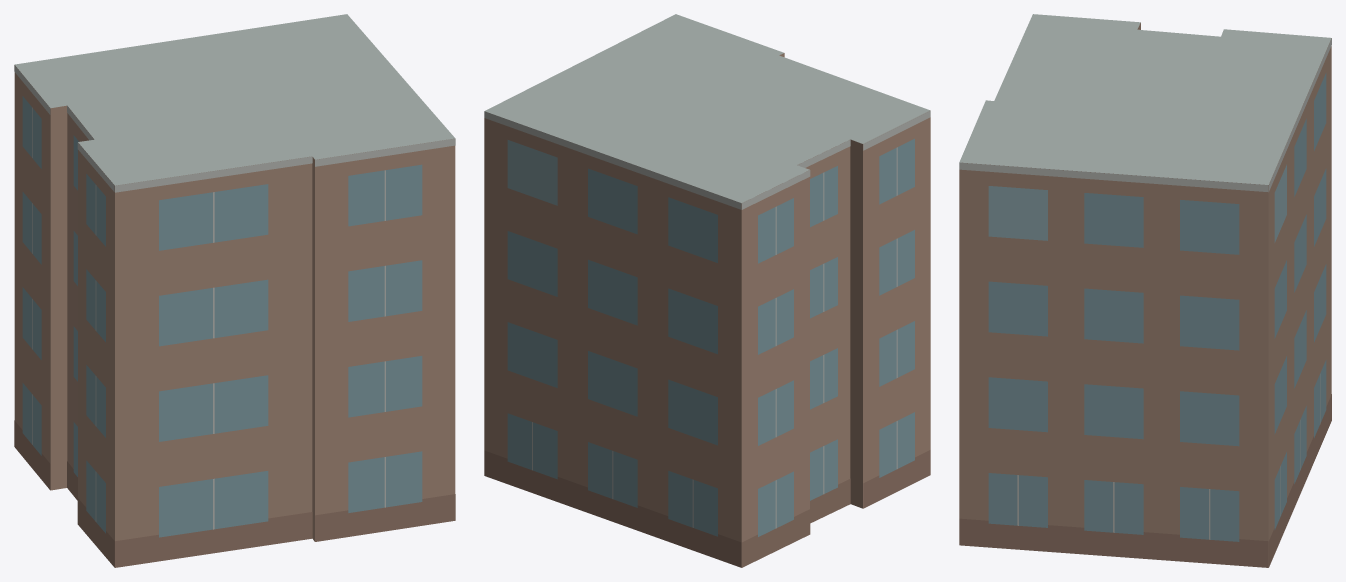
The model's file is survey-upis-32665006.glb.
3 views of the same model, side by side, from view 1: azimuth 30°, elevation 25°; view 2: azimuth 150°, elevation 25°; view 3: azimuth 270°, elevation 25° (orthographic). The views are drawn at different scales.
Visible parts, largest first — view 1: survey-upis-32665006.tmp; view 2: survey-upis-32665006.tmp; view 3: survey-upis-32665006.tmp.
Part boxes in pixels (left/top/right/bottom): survey-upis-32665006.tmp: left=14, top=14, right=455, bottom=567; survey-upis-32665006.tmp: left=484, top=14, right=930, bottom=567; survey-upis-32665006.tmp: left=959, top=14, right=1331, bottom=567.
Bounding box in the file's own units: 12.56 × 13.1 × 11.56.
